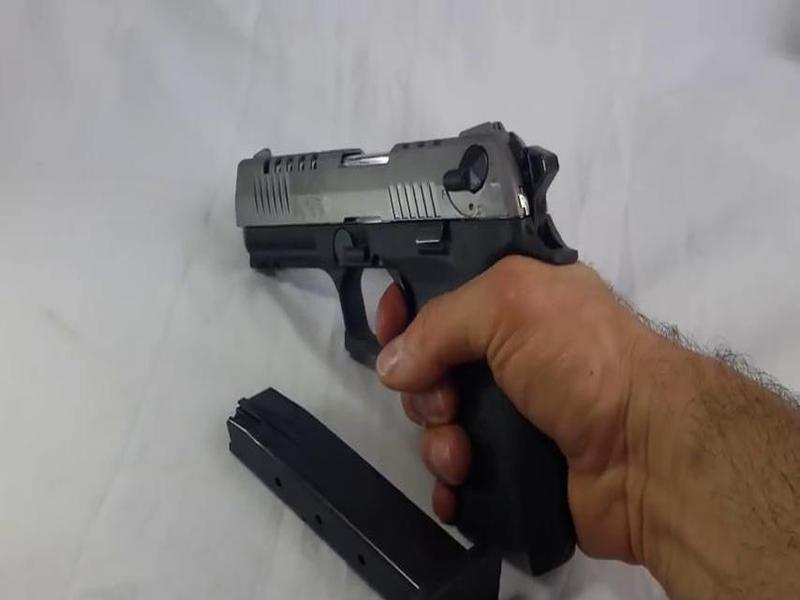Pistola: (209, 91, 572, 574)
